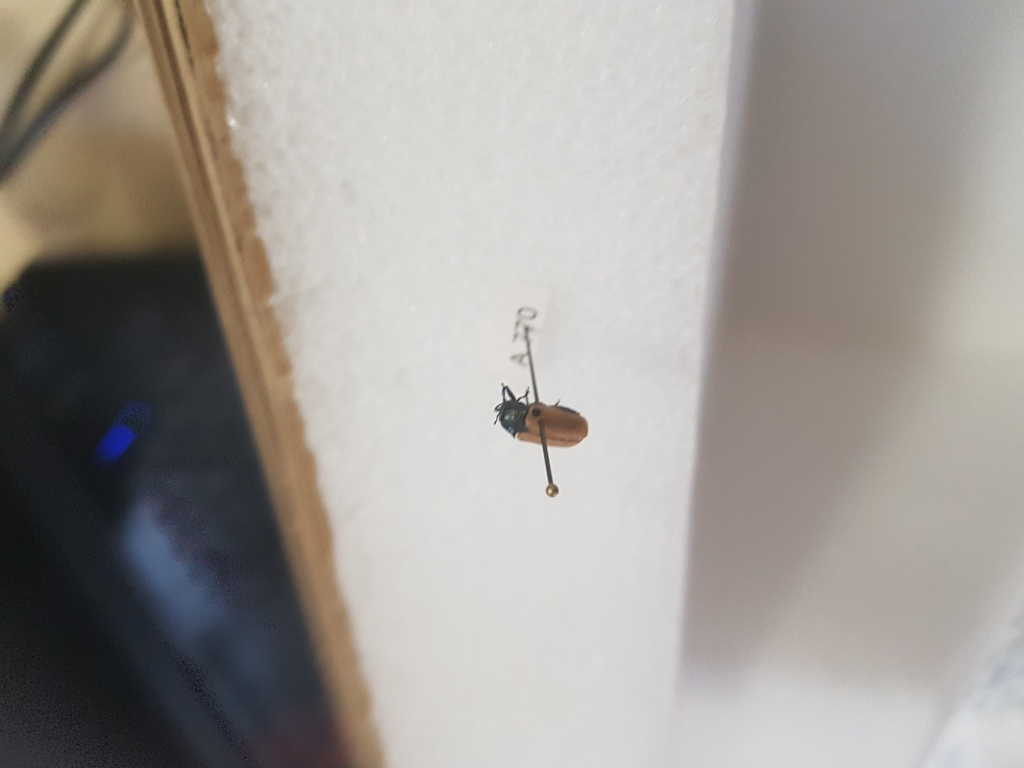Labidostomis_propinqua: (486, 383, 592, 451)
